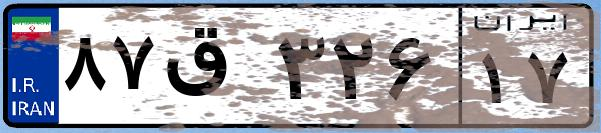1: (475, 38, 525, 113)
2: (330, 28, 385, 110)
3: (270, 28, 330, 110)
6: (385, 28, 445, 110)
7: (525, 38, 570, 115), (110, 28, 158, 98)
8: (57, 26, 110, 100)
ق: (158, 20, 270, 120)
